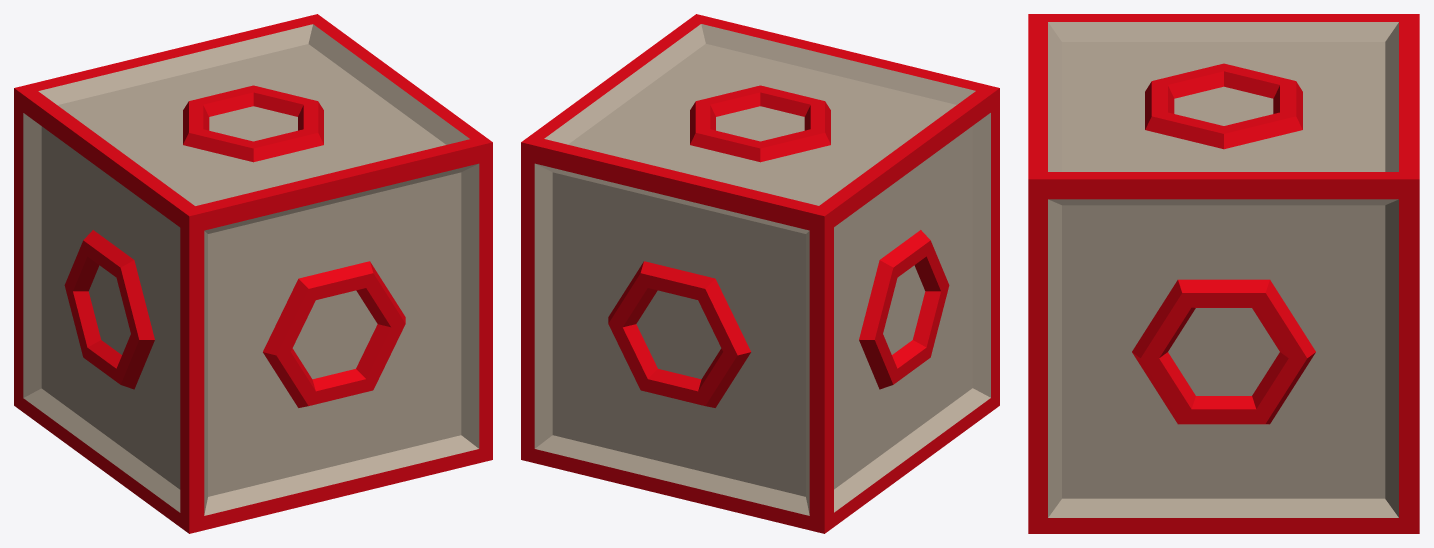
File: Raven_Box.fbx
3 views of the same model, side by side, from view 1: azimuth 30°, elevation 25°; view 2: azimuth 150°, elevation 25°; view 3: azimuth 270°, elevation 25° (orthographic). The views are drawn at different scales.
Visible parts, largest first — view 1: Cube; view 2: Cube; view 3: Cube.
Boxes of the visible parts, x1,y1,x2,y2 form: Cube: (14, 14, 492, 533); Cube: (521, 14, 999, 533); Cube: (1028, 14, 1419, 533).
Size of the model in its own units: 217 by 218 by 217.
